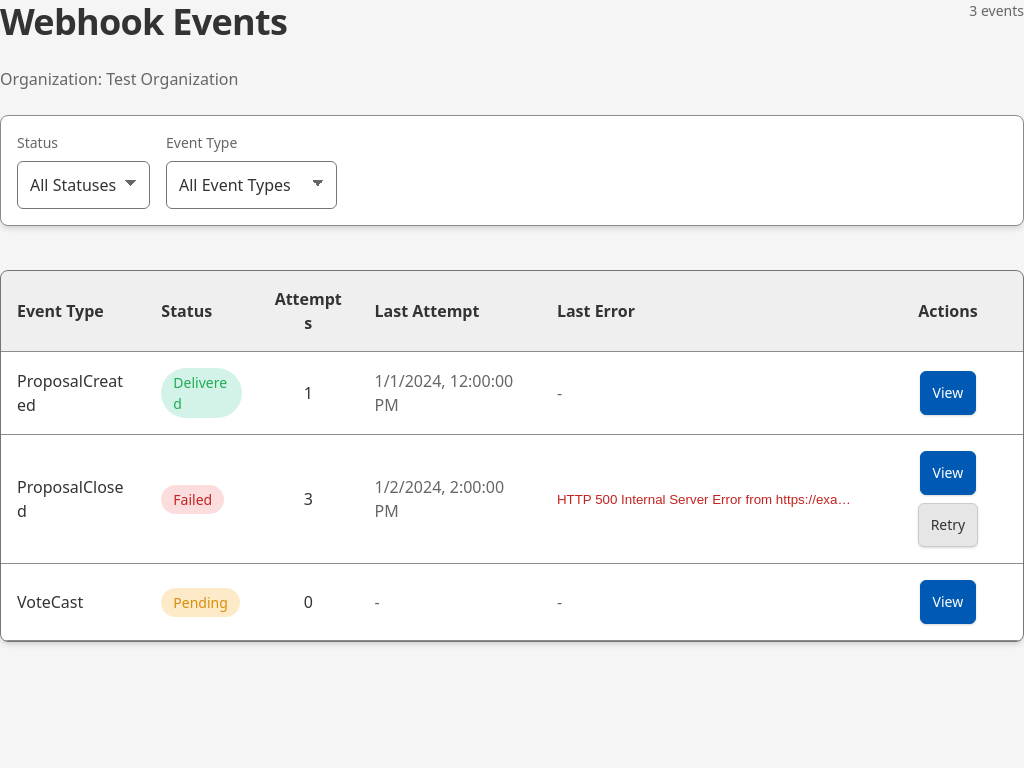
Test: AdminWebhookEventsPage › opens detail modal when View is clicked
This screenshot has width=1024, height=768.
# Click the first View button
What coordinates should you click on to do the following:
click the button "View" in the row of "ProposalClosed"
I would click on:
 (948, 473)
Its box is left=920, top=451, right=976, bottom=495.
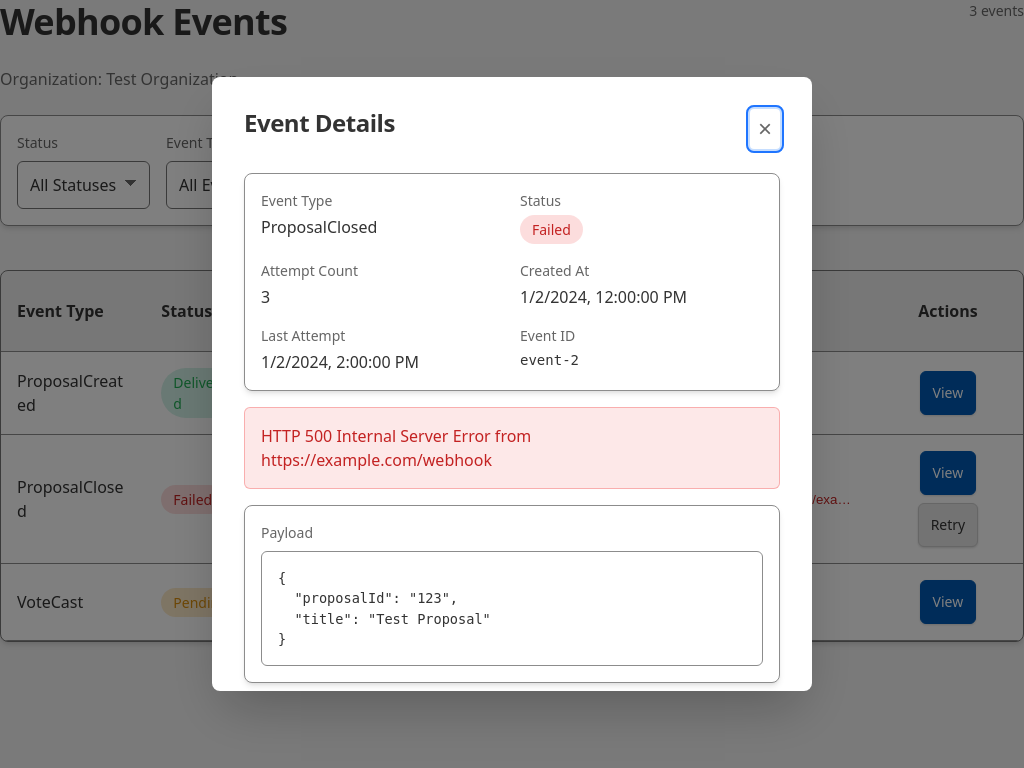
Check: the heading "Event Details" is shown, box left=244, top=109, right=395, bottom=138
Check: the text "{ \"proposalId\": \"123\", \"title\": \"Test Proposal\" }" is shown, box left=261, top=551, right=763, bottom=666
